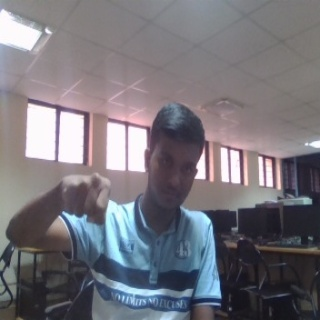Face: (144, 104, 206, 209)
Yes: (53, 170, 114, 225)
